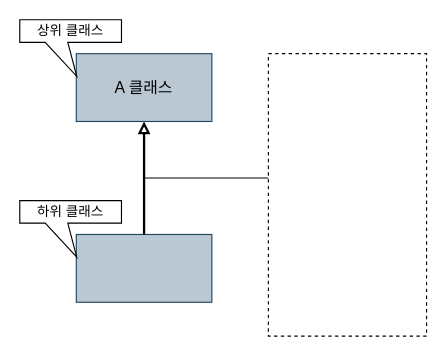
Some shapes in this 446 by 356 pixel diagram are drawn without their labels. Here are the shapes that lost their labels. From the top down, the centre of each, then its label:
At pixel 347 194: "A 클래스가 B 클래스에게 상속 한다. = B 클래스가 A 클래스를 상속 받는다".
At pixel 143 267: "B 클래스".
